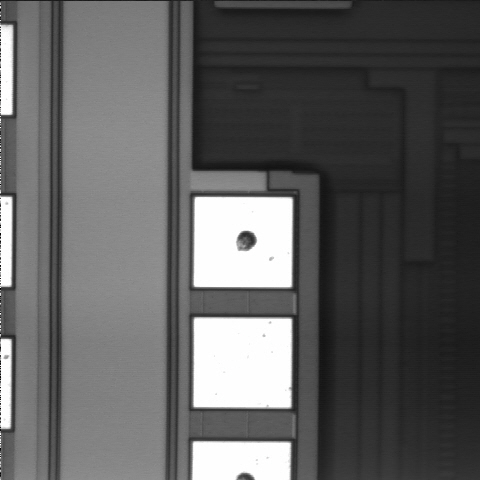pad: (194, 197, 292, 287), (194, 318, 292, 408)
